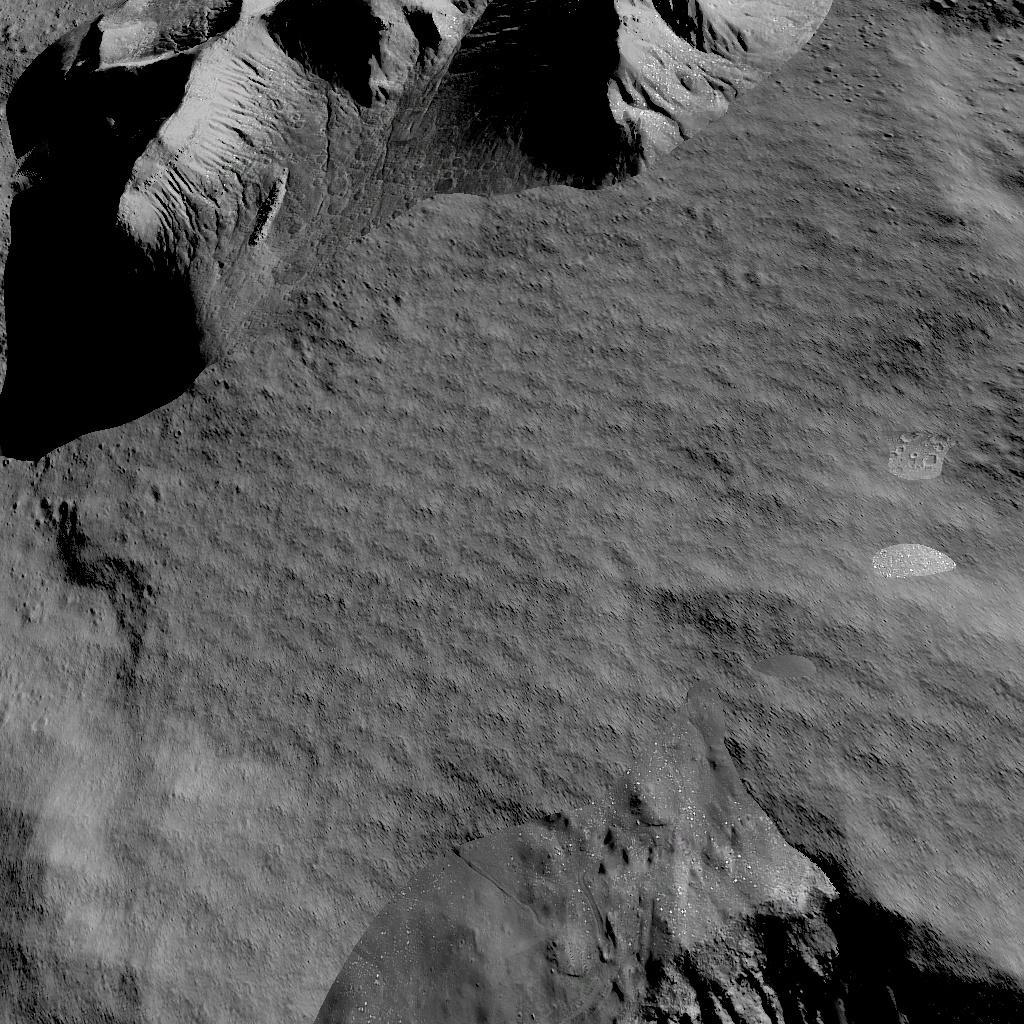Boulders: (0, 0, 828, 463)
Crater: (321, 815, 1024, 1024), (989, 370, 1024, 508), (918, 0, 1022, 30)
Plan surface: (324, 475, 976, 803), (0, 475, 308, 1024), (843, 55, 1024, 358)
